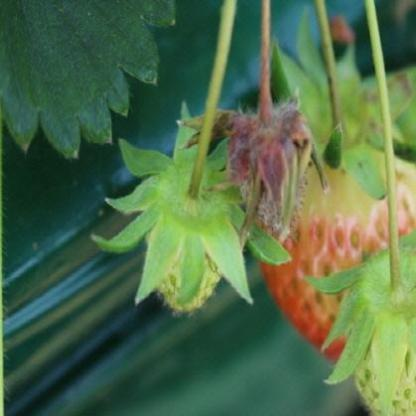Strawberry_Gray_Mold: (202, 88, 314, 250)
